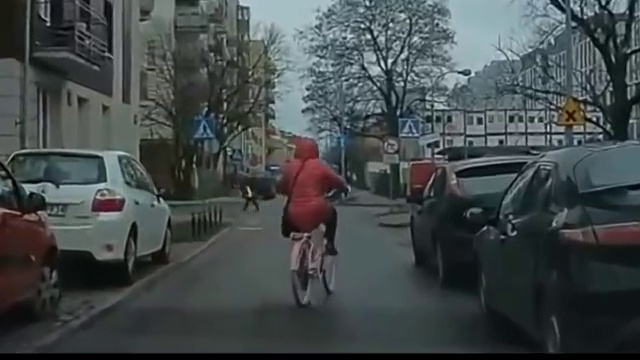cyclist_back: (277, 138, 344, 306)
